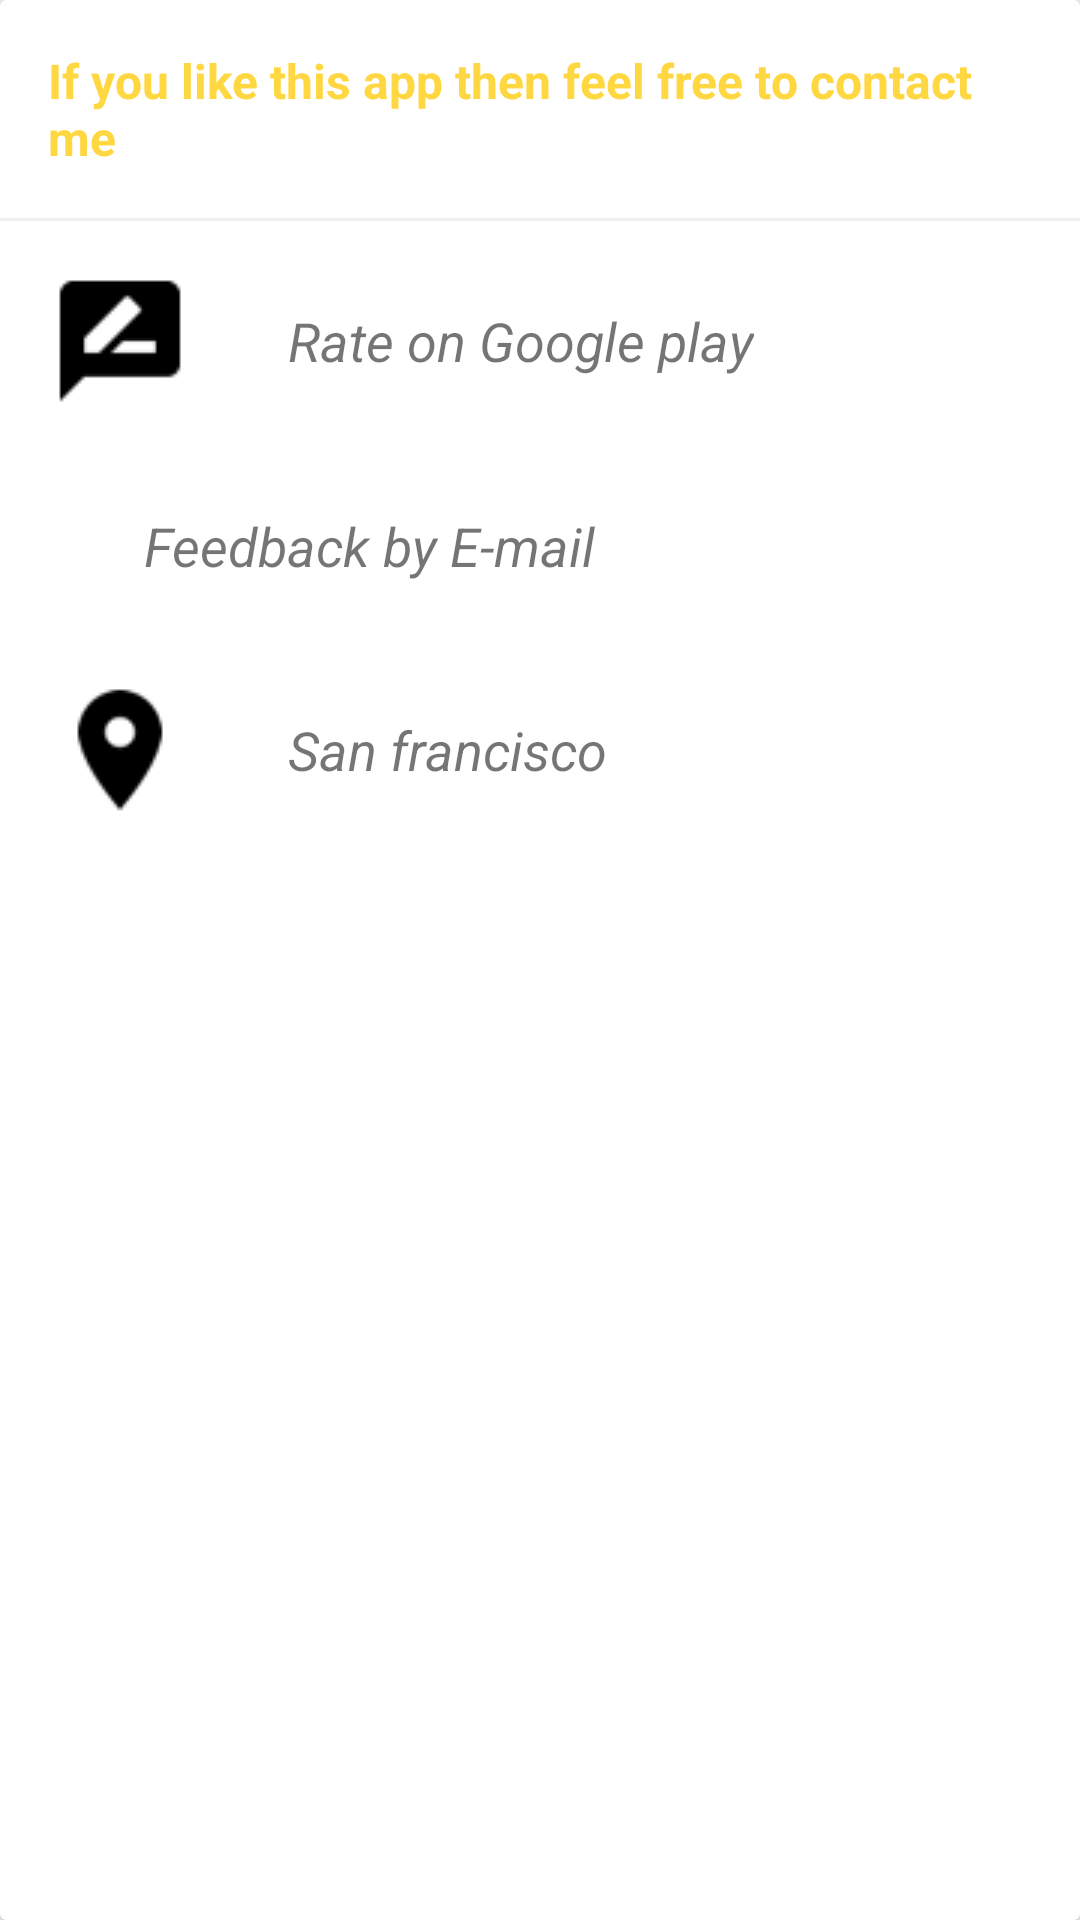

Icons on this 1080 × 1920 Android screen, each with the point to tap as point (x, y):
location on: point (120, 750)
rate review: point (120, 341)
